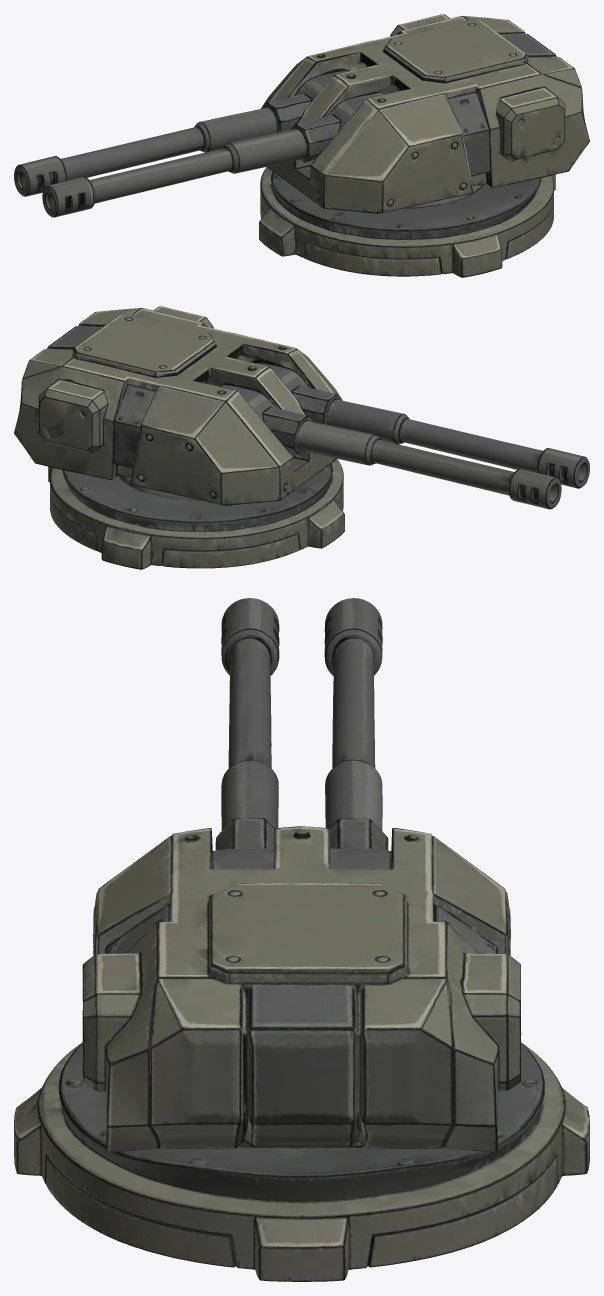
File: blog23-demo-turret.glb
3 renders of one model, top to bottom at view 1: azimuth 30°, elevation 25°; view 2: azimuth 150°, elevation 25°; view 3: azimuth 270°, elevation 25°, orthographic. The views are drawn at different scales.
Bounding box in the file's own units: 1.9 × 0.5466 × 1.03.
Materials: 1 (1 with a texture image).
